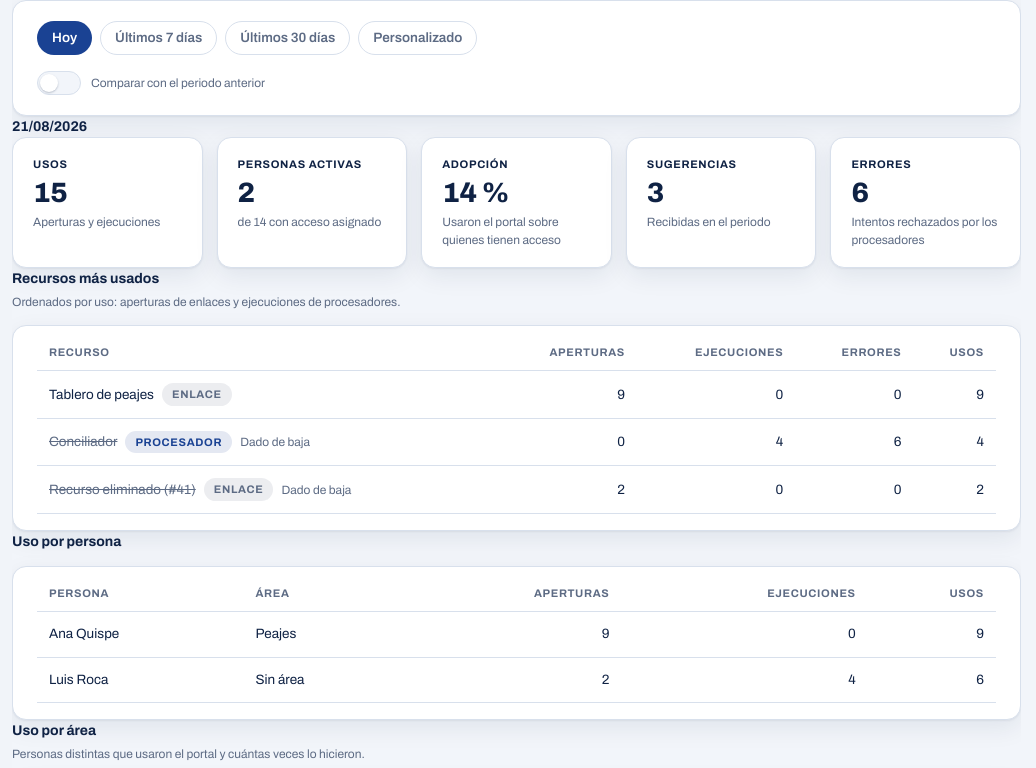
la comparación › nombra el periodo contra el que compara
Click the switch named "Comparar con el periodo anterior" at (59, 83), box [37, 71, 81, 95]
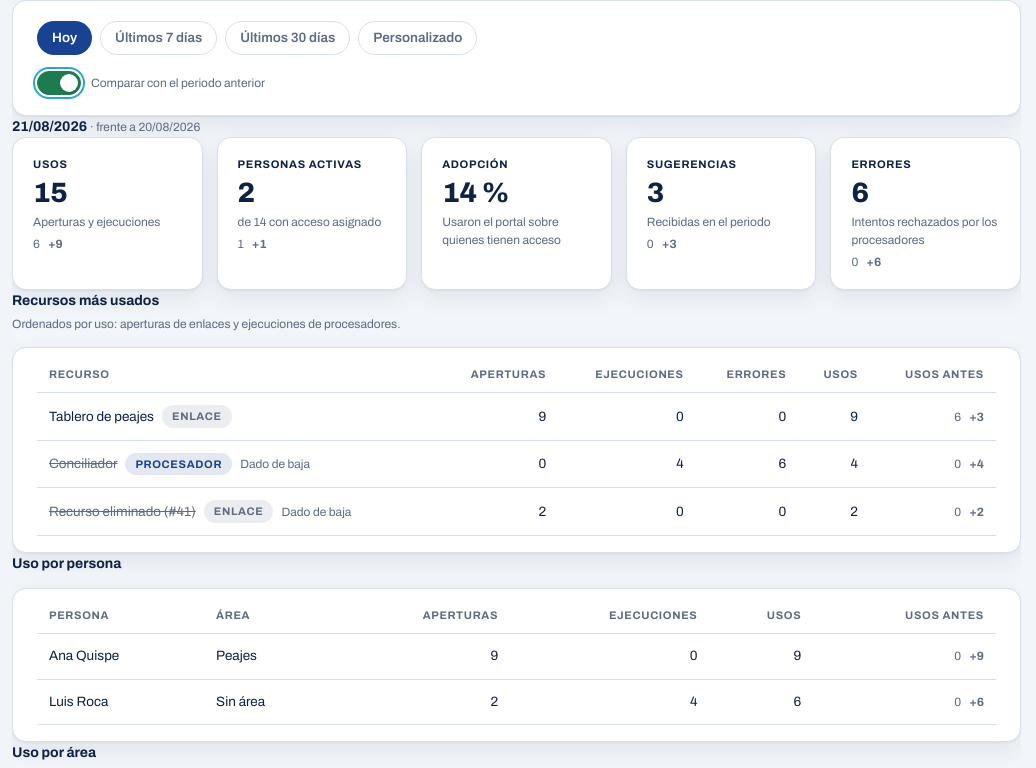
expect the text "· frente a 20/08/2026" is shown: met, box [87, 120, 200, 134]
